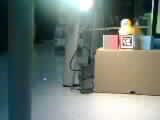duck: (116, 15, 143, 39)
